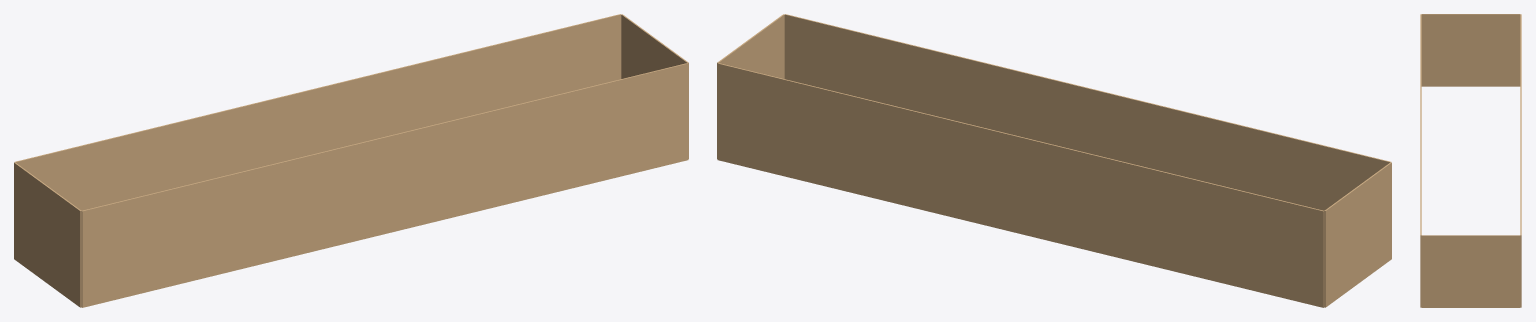
3 views of the same model, side by side, from view 1: azimuth 30°, elevation 25°; view 2: azimuth 150°, elevation 25°; view 3: azimuth 270°, elevation 25° (orthographic). The views are drawn at different scales.
Visible parts, largest first — view 1: form_8; view 2: form_8; view 3: form_8.
Boxes of the visible parts, x1,y1,x2,y2 form: form_8: (14,14,688,307); form_8: (717,14,1391,307); form_8: (1420,14,1521,307).
Bounding box in the file's own units: 23.34 × 3.54 × 4.5.
